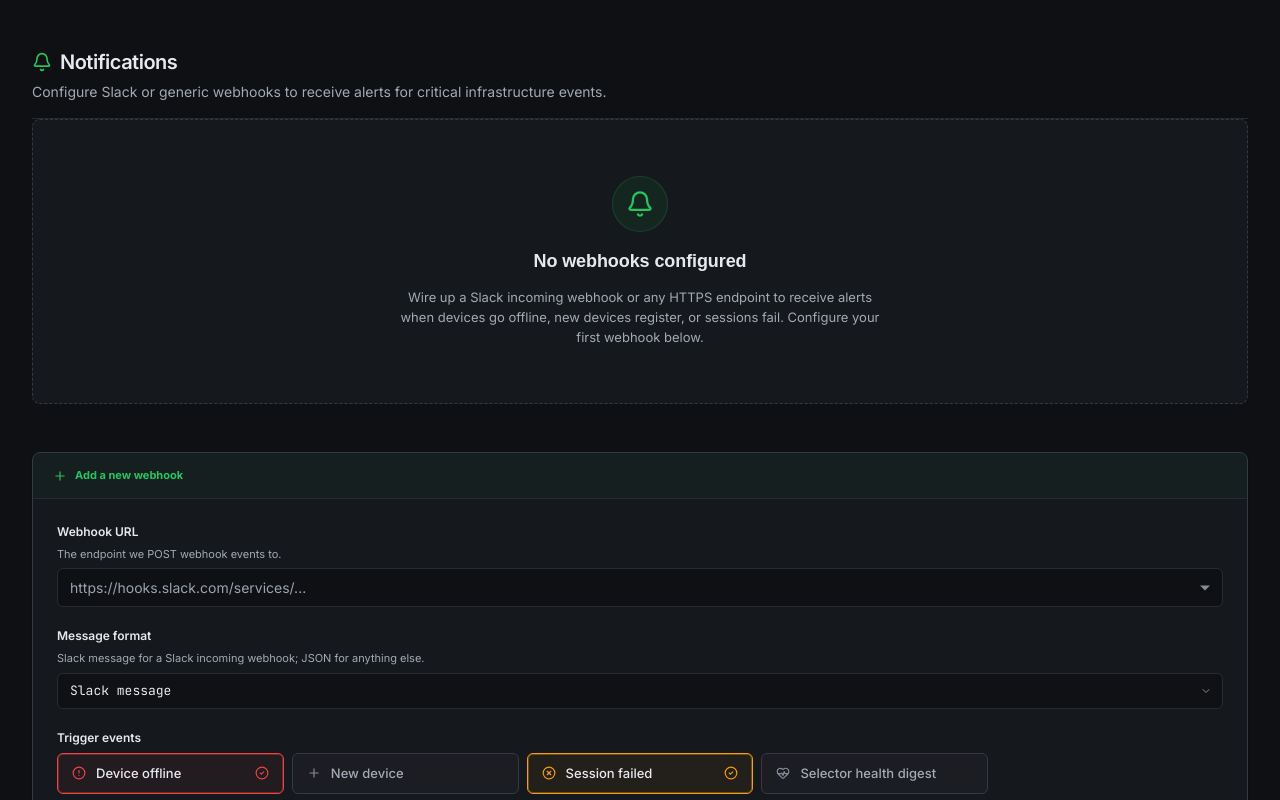
webhook settings: Send test › needs an event to send a sample of
expect the heading "No webhooks configured" is shown: met, box [534, 248, 746, 275]
Type "https://hooks.slack.com/services/T000/B000/XXXX" into the field labelled "Webhook URL" at (640, 588), box [70, 577, 1210, 598]
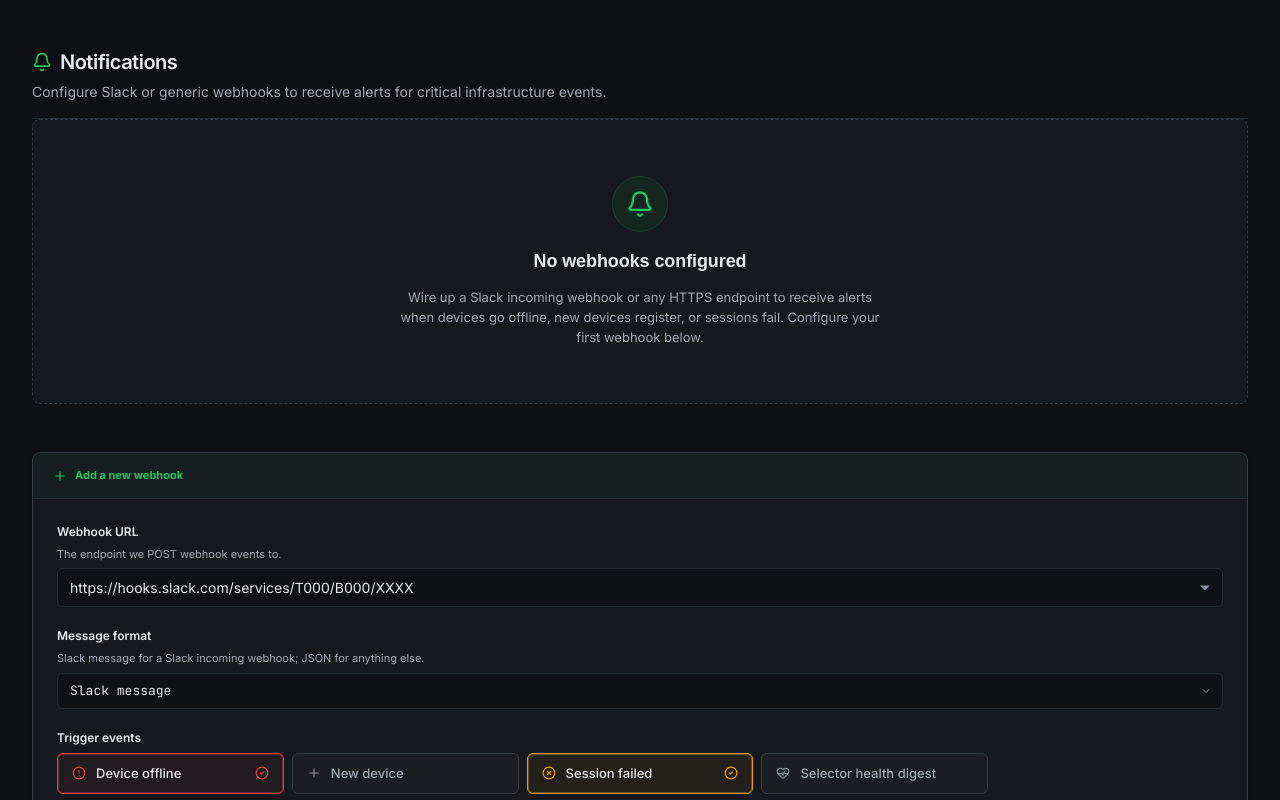
Click the checkbox labelled "Device offline" at (170, 773), box [57, 753, 284, 794]
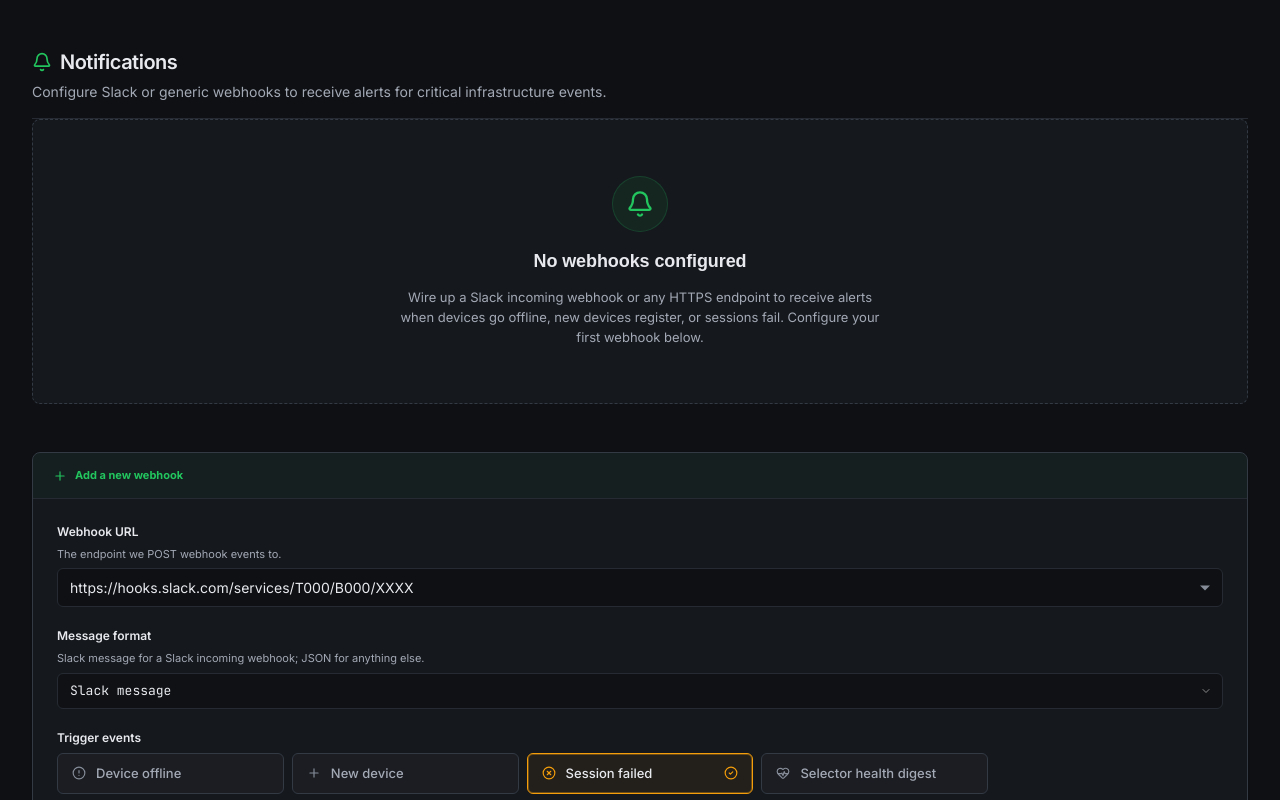
Click the checkbox labelled "Session failed" at (640, 773), box [527, 753, 753, 794]
(page scrolled)
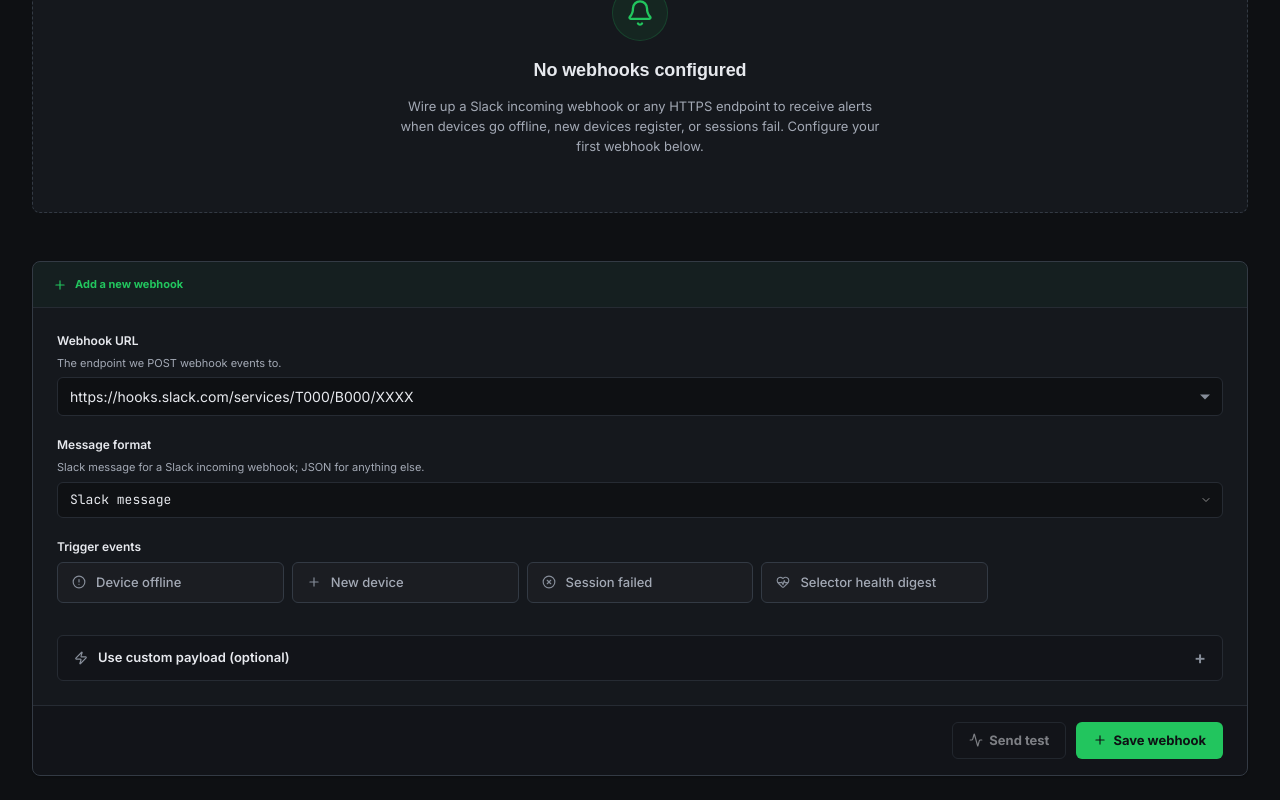
expect the button "Send test" is disabled: met, box [952, 722, 1066, 759]
